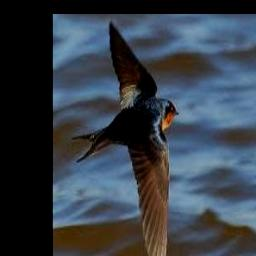Swallow: (72, 22, 179, 256)
